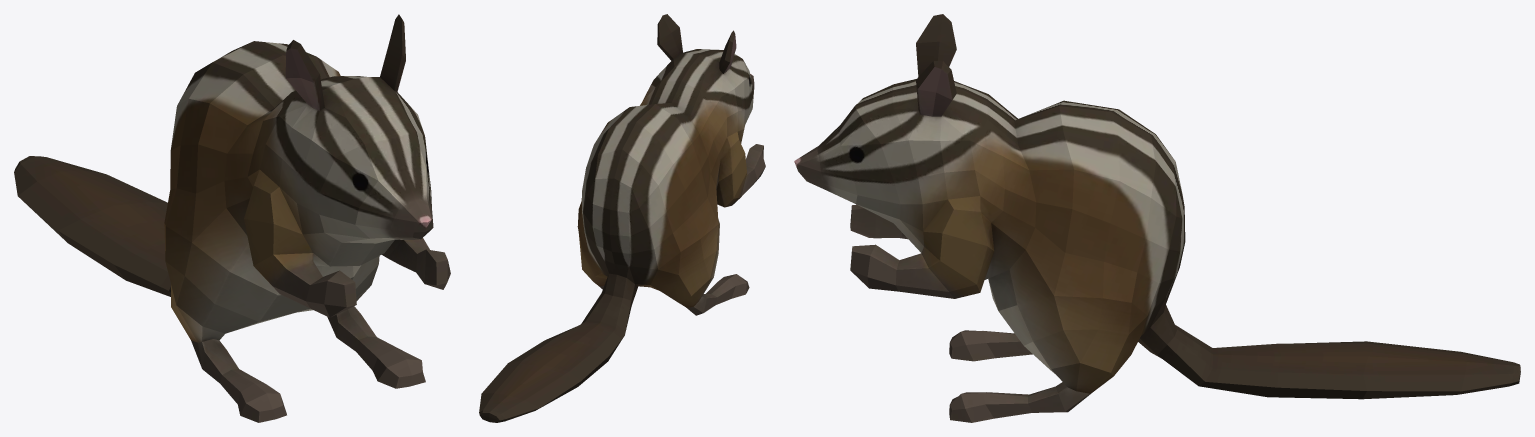
Rendered from 0GiSxpS79Ao.glb.
The picture shows the model from 3 angles, left to right: view 1: azimuth 30°, elevation 25°; view 2: azimuth 150°, elevation 25°; view 3: azimuth 270°, elevation 25°; orthographic projection. The views are drawn at different scales.
Visible parts, largest first — view 1: PanamintChipmuck_Mesh; view 2: PanamintChipmuck_Mesh; view 3: PanamintChipmuck_Mesh.
Boxes of the visible parts, x1,y1,x2,y2 form: PanamintChipmuck_Mesh: (14, 14, 450, 422); PanamintChipmuck_Mesh: (479, 14, 765, 422); PanamintChipmuck_Mesh: (794, 14, 1520, 422).
Size of the model in its own units: 0.528 by 1 by 1.91.
1 material, 1 textured.
